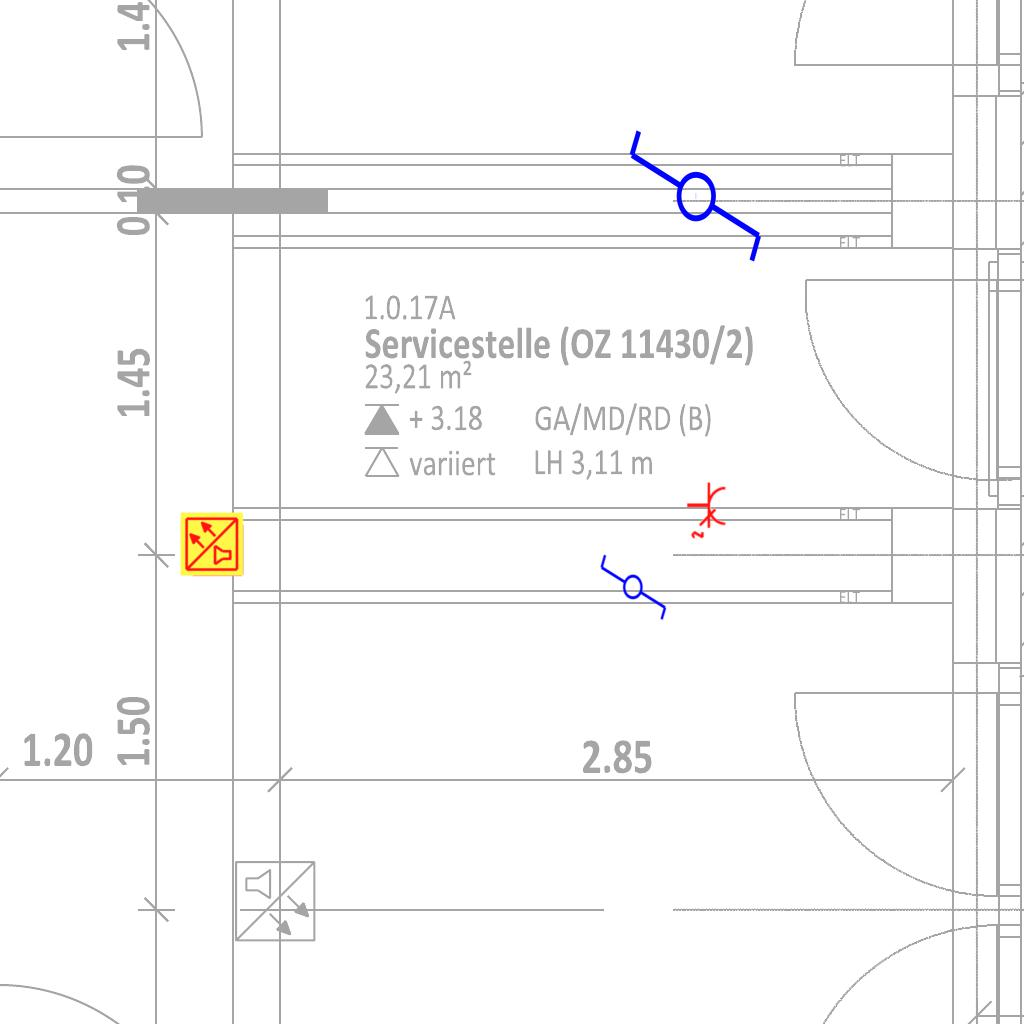OKW_Multisensormelder_(Kombination_optischer_Rauch-Kahlenmonoxid_Waerme-Melder): (179, 511, 245, 577)
Schukosteckdose_mehrfach: (684, 480, 728, 540)
Wechselschalter: (622, 126, 766, 283), (598, 544, 670, 622)
